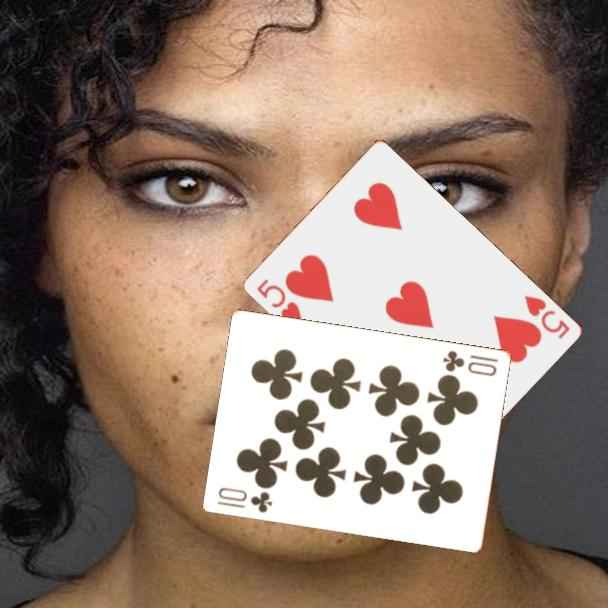c10: (439, 347, 501, 379), (214, 483, 275, 515)
h05: (253, 275, 306, 326), (520, 292, 573, 342)
